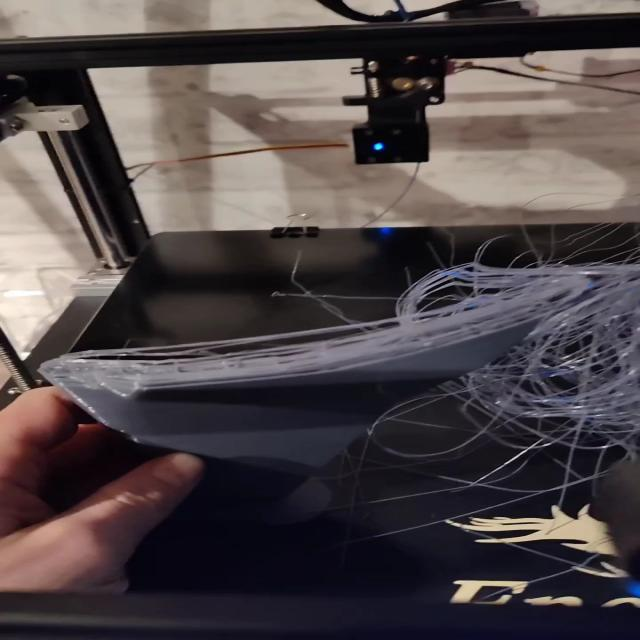spaghetti: (397, 245, 640, 442)
